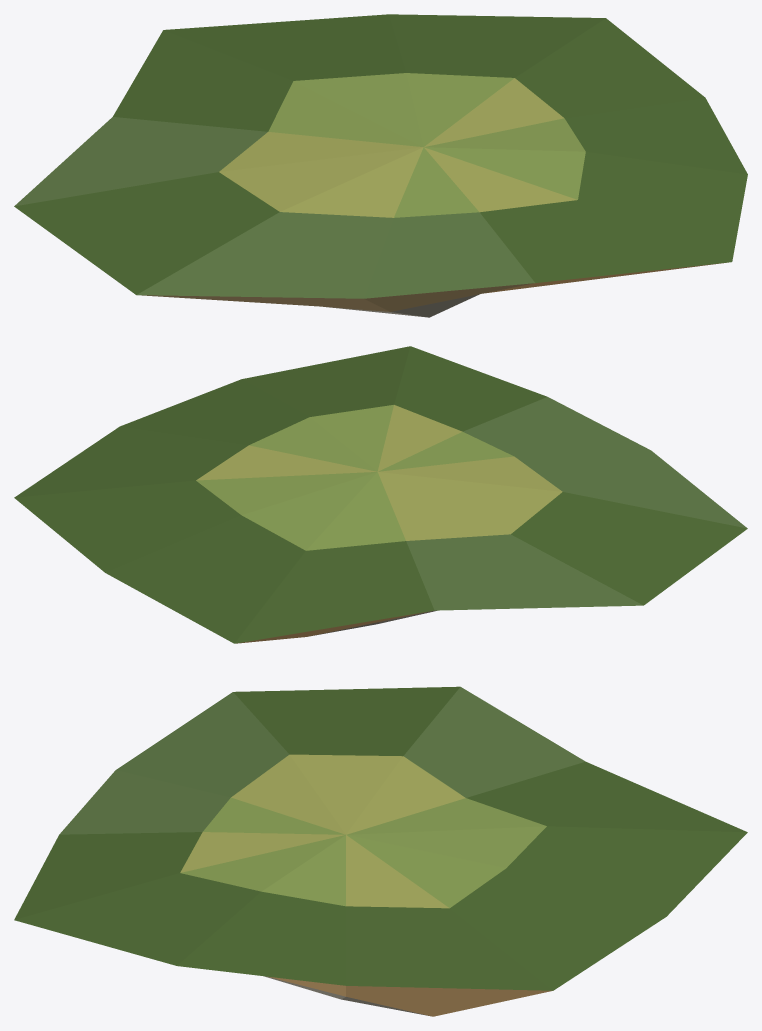
The model's file is portfolio-platform.glb.
3 views of the same model, one above another, from view 1: azimuth 30°, elevation 25°; view 2: azimuth 150°, elevation 25°; view 3: azimuth 270°, elevation 25° (orthographic). The views are drawn at different scales.
Parts seen in each view (by area): view 1: Portfolio_Platform; view 2: Portfolio_Platform; view 3: Portfolio_Platform.
Part boxes in pixels (<box>): Portfolio_Platform: <box>14,14,747,317</box>; Portfolio_Platform: <box>14,346,747,643</box>; Portfolio_Platform: <box>14,686,747,1016</box>.
Size of the model in its own units: 8.92 by 2.25 by 9.15.
1 material, 1 textured.
